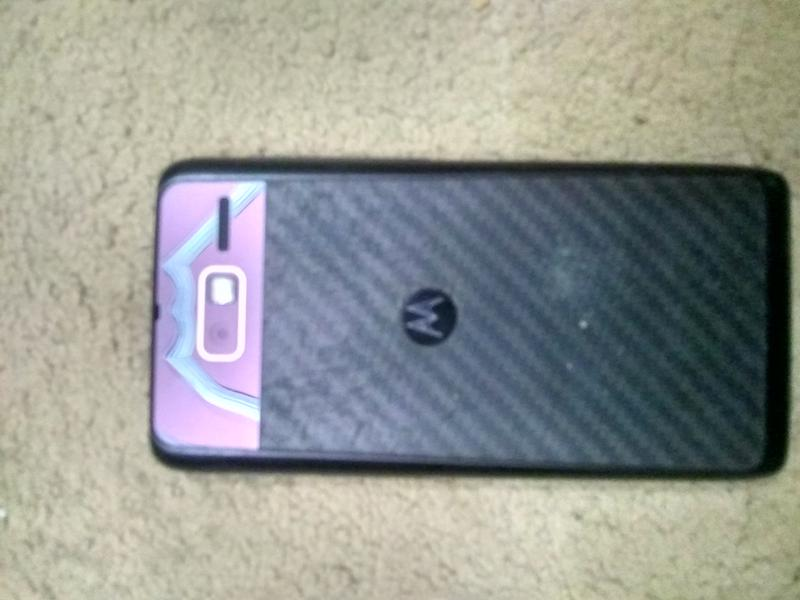moto: (149, 158, 789, 481)
